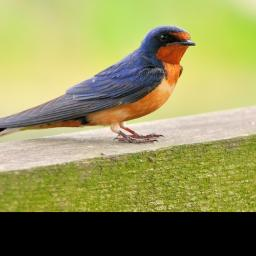Swallow: (0, 21, 201, 151)
